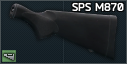M870 SPS polymer stock: (0, 0, 127, 64)
